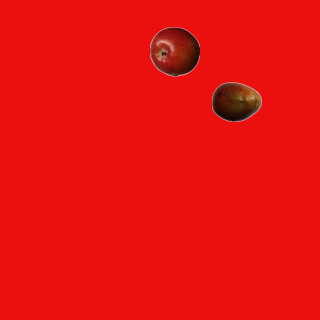Apple Braeburn: (149, 26, 199, 76)
Mango Red: (211, 76, 261, 126)
